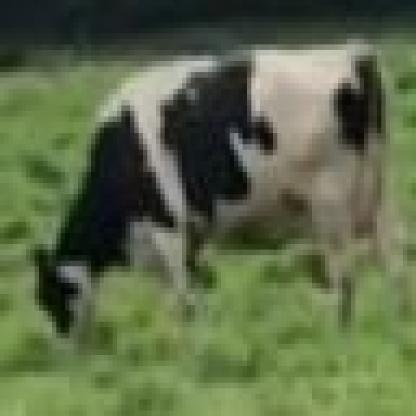cow: (34, 50, 386, 355)
